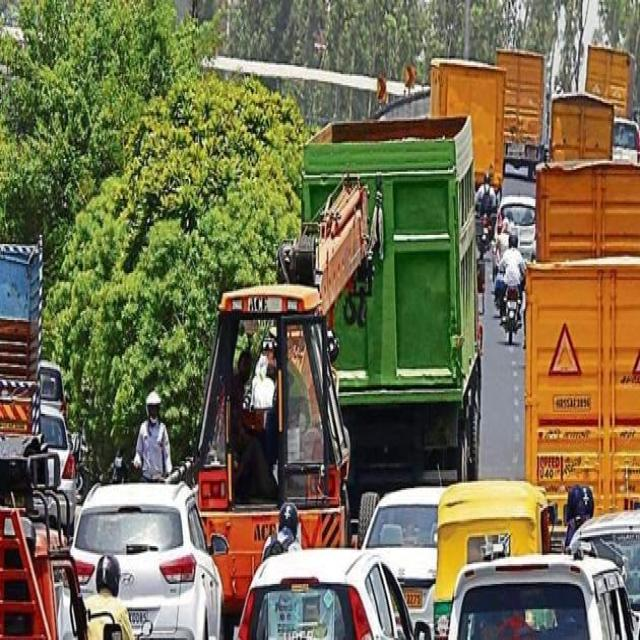autorickshaw: (434, 481, 557, 638)
car: (71, 483, 221, 637)
motorcycle: (497, 234, 525, 344), (497, 231, 526, 317)
truck: (196, 178, 369, 606)
